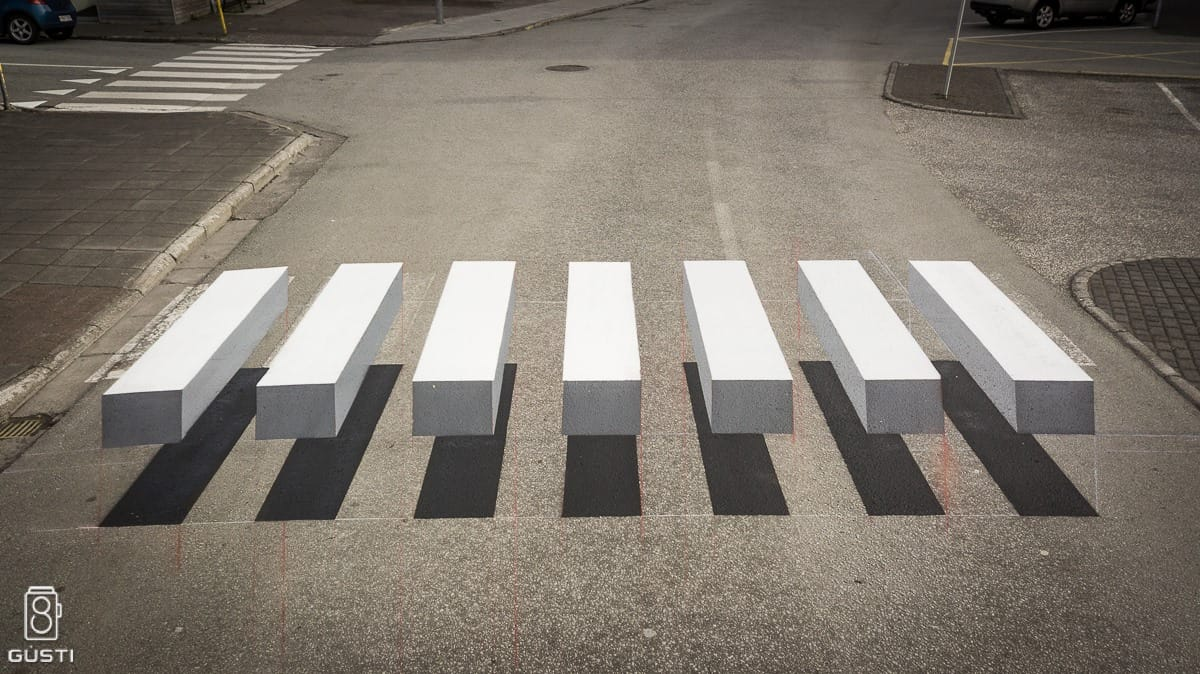Crosswalk: (60, 224, 1150, 549)
